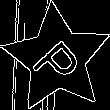P_NE: (27, 28, 87, 89)
